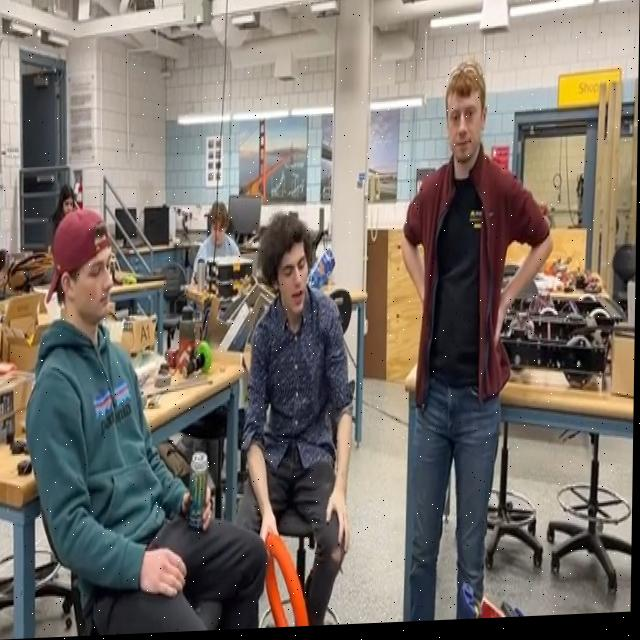note: (262, 528, 315, 629)
